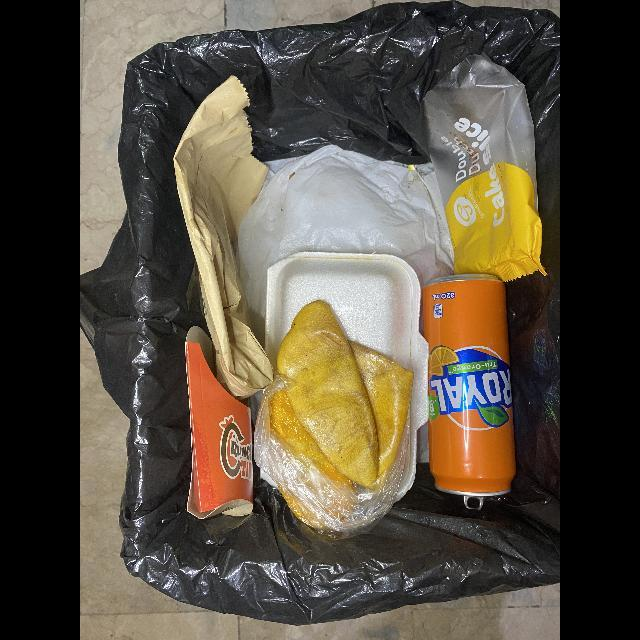aluminum: (419, 274, 517, 512)
cardboard: (185, 326, 253, 520)
food_wrapper: (423, 53, 547, 283)
paper: (173, 75, 273, 402)
